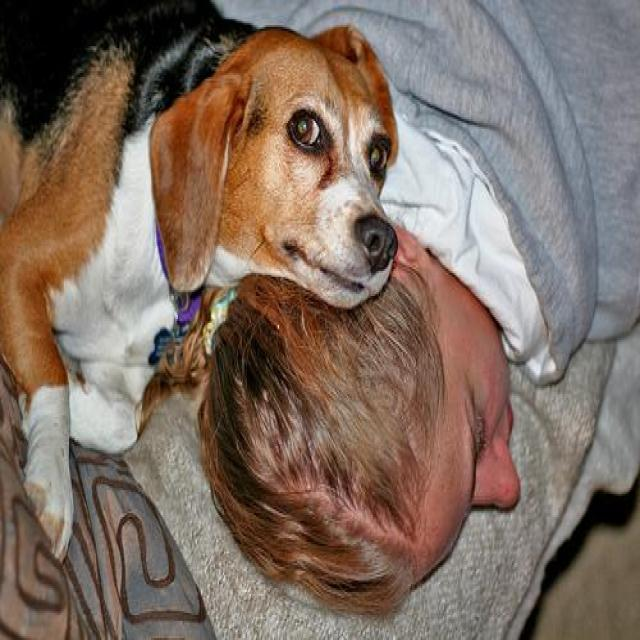beagle: (1, 2, 398, 563)
